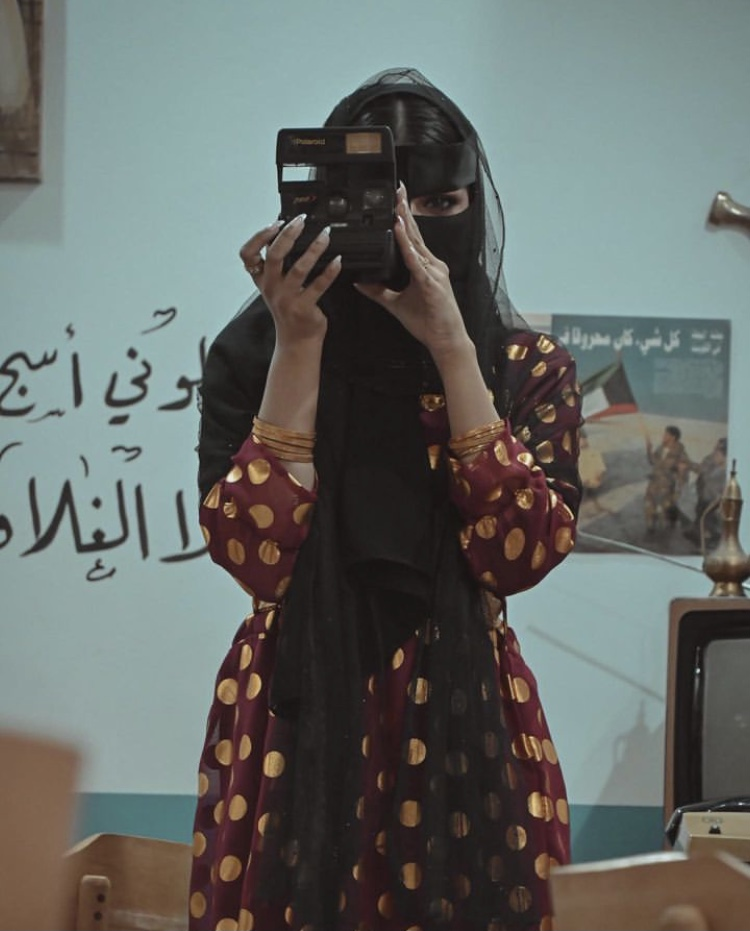Saudi_Founding_Day: (185, 64, 583, 931)
